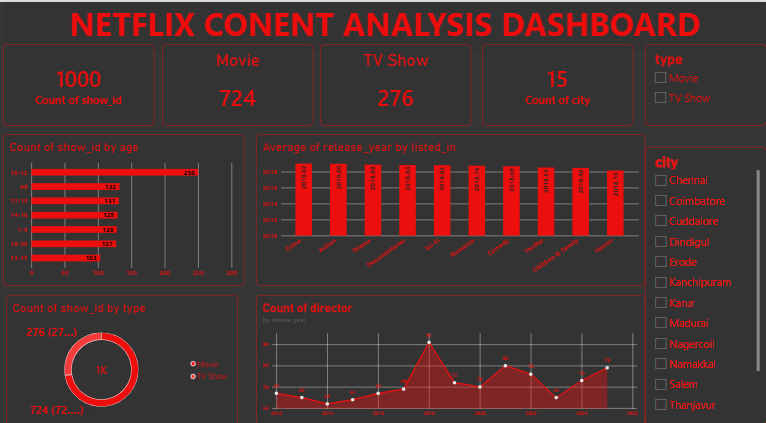

Layout of this report page (visuals, bound fields, positions):
{"tool":"powerbi","page":{"name":"Page 1","canvas":[1920,1080],"ordinal":0},"visuals":[{"type":"textbox","box":[9.8,0,1910.2,125.2],"z":0},{"type":"card","fields":{"Values":["CountNonNull(Table1.show_id)"]},"box":[10,105,378,204.1],"z":1000},{"type":"card","title":"Movie","fields":{"Values":["CountNonNull(Table1.type)"]},"box":[407.5,105,378,204.1],"z":2000},{"type":"card","title":"TV Show","fields":{"Values":["CountNonNull(Table1.type)"]},"box":[802.5,105,378,204.1],"z":3000},{"type":"card","fields":{"Values":["Count(Table1.city)"]},"box":[1207.5,105,378,204.1],"z":4000},{"type":"slicer","fields":{"Values":["Table1.type"]},"box":[1615,105,304.5,203.8],"z":5000},{"type":"slicer","fields":{"Values":["Table1.city"]},"box":[1615,362.5,304.5,694.8],"z":6000},{"type":"barChart","fields":{"Category":["Table1.age"],"Y":["CountNonNull(Table1.show_id)"]},"box":[10,330,602.5,380],"z":7000},{"type":"columnChart","fields":{"Category":["Table1.listed_in"],"Y":["Avg(Table1.release_year)"]},"box":[642.5,330,972.5,380],"z":8000},{"type":"donutChart","fields":{"Category":["Table1.type"],"Y":["CountNonNull(Table1.show_id)"]},"box":[17.5,732.5,580,325],"z":9000},{"type":"lineChart","fields":{"Category":["Table1.release_year"],"Y":["CountNonNull(Table1.director)"]},"box":[642.5,732.5,972.5,325],"z":10000}]}

Visuals, with their boxes in screenshot pixels (x1, y1, x2, y2), scaled from the page's 1920x1080 canvas onto the 766x423 screenshot:
textbox: detection(4, 0, 765, 49)
card - CountNonNull(Table1.show_id): detection(4, 41, 155, 121)
"Movie" card: detection(163, 41, 313, 121)
"TV Show" card: detection(320, 41, 471, 121)
card - Count(Table1.city): detection(482, 41, 633, 121)
slicer - Table1.type: detection(644, 41, 765, 121)
slicer - Table1.city: detection(644, 142, 765, 414)
barChart - Table1.age x CountNonNull(Table1.show_id): detection(4, 129, 244, 278)
columnChart - Table1.listed_in x Avg(Table1.release_year): detection(256, 129, 644, 278)
donutChart - Table1.type x CountNonNull(Table1.show_id): detection(7, 287, 238, 414)
lineChart - Table1.release_year x CountNonNull(Table1.director): detection(256, 287, 644, 414)
